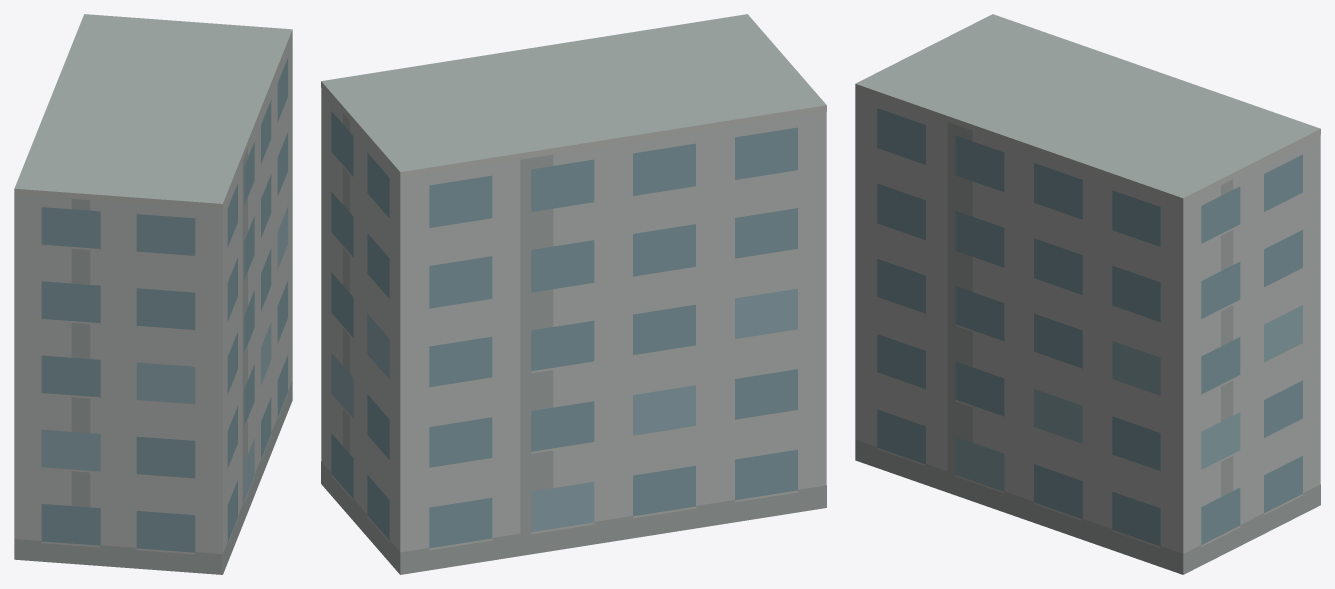
The model's file is survey-upis-32561342.glb.
3 renders of one model, left to right at view 1: azimuth 30°, elevation 25°; view 2: azimuth 150°, elevation 25°; view 3: azimuth 270°, elevation 25°, orthographic. The views are drawn at different scales.
Parts seen in each view (by area): view 1: survey-upis-32561342.tmp; view 2: survey-upis-32561342.tmp; view 3: survey-upis-32561342.tmp.
Boxes of the visible parts, box(x1,y1,x2,y2) form: survey-upis-32561342.tmp: box(14, 14, 292, 574); survey-upis-32561342.tmp: box(321, 14, 826, 574); survey-upis-32561342.tmp: box(855, 14, 1320, 574).
Bounding box in the file's own units: 16.01 × 15.25 × 17.09.
